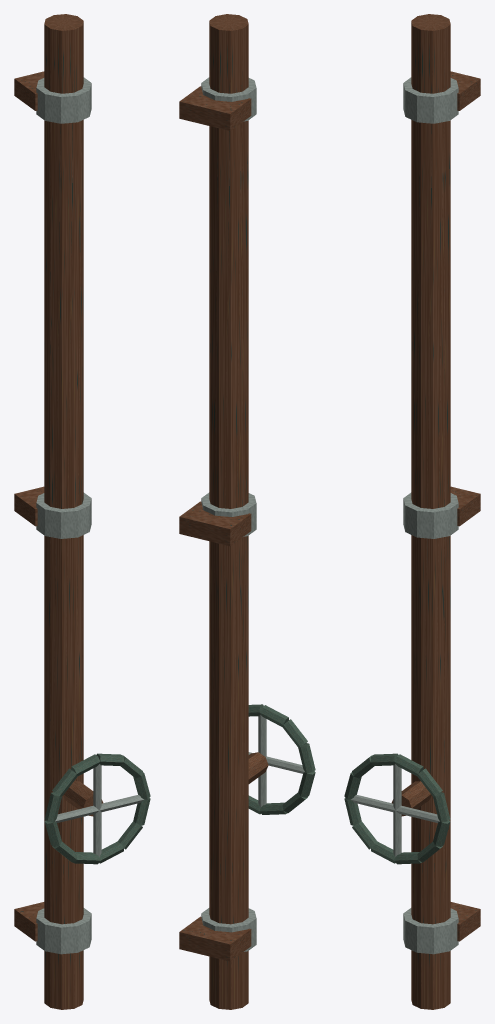
File: Pipe.glb
3 renders of one model, left to right at view 1: azimuth 30°, elevation 25°; view 2: azimuth 150°, elevation 25°; view 3: azimuth 330°, elevation 25°, orthographic.
Parts seen in each view (by area): view 1: Pipe; view 2: Pipe; view 3: Pipe.
Boxes of the visible parts, <box> form: Pipe: <box>14,14,150,1009</box>; Pipe: <box>179,14,315,1009</box>; Pipe: <box>344,14,480,1009</box>.
Size of the model in its own units: 0.2834 by 2.57 by 0.289.
3 materials, 3 textured.
